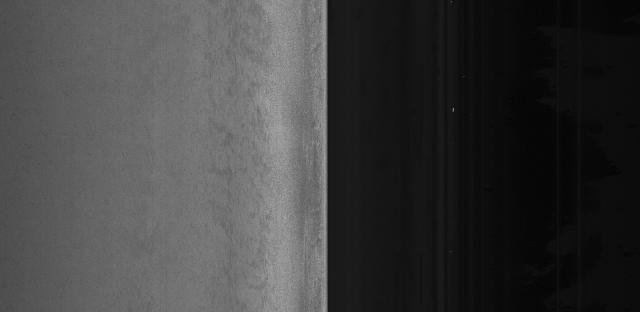silk_spot: (217, 118, 280, 232)
